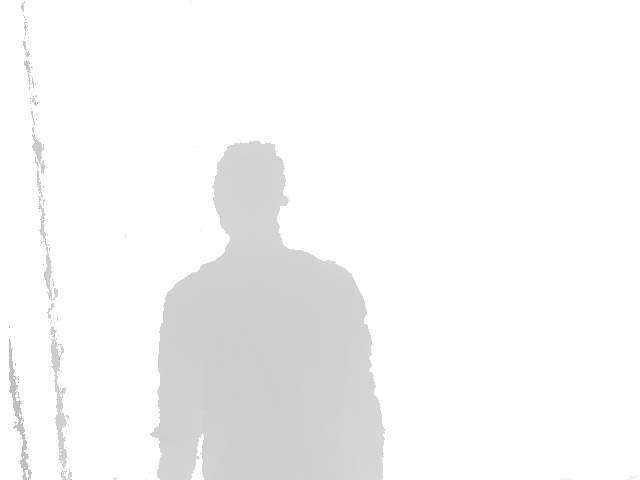head: (212, 140, 289, 244)
person: (147, 140, 388, 480)
